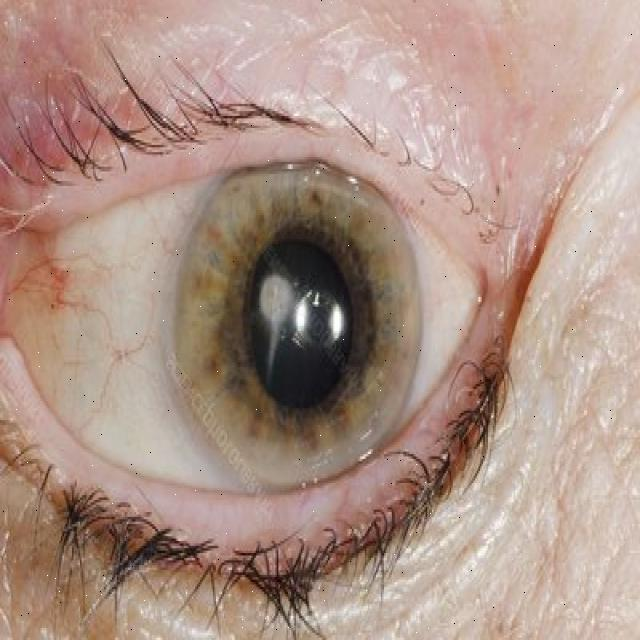Cataract: (172, 146, 425, 498)
